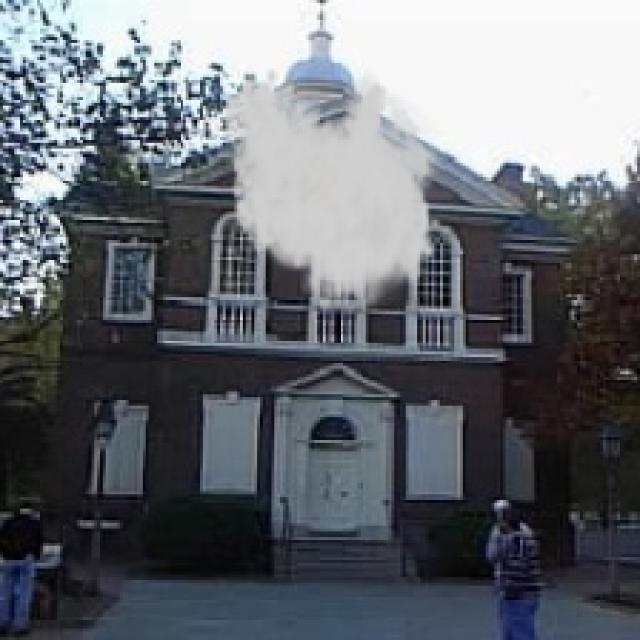Smoke: (221, 66, 448, 320)
